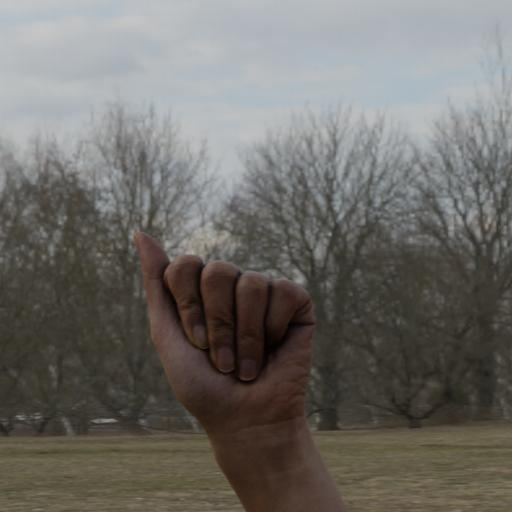A: (114, 193, 330, 446)
